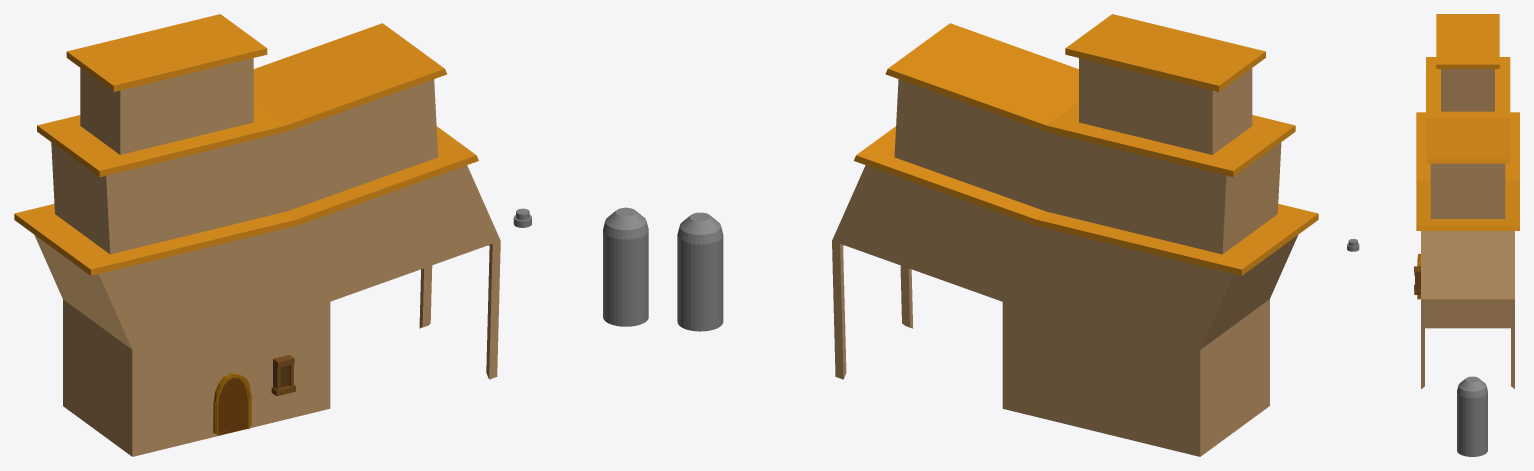
The model's file is House_2.fbx.
3 views of the same model, side by side, from view 1: azimuth 30°, elevation 25°; view 2: azimuth 150°, elevation 25°; view 3: azimuth 270°, elevation 25° (orthographic). The views are drawn at different scales.
Visible parts, largest first — view 1: Cube, Cylinder.002, Cube.466, Cube.019; view 2: Cube, Cylinder.002; view 3: Cube, Cylinder.002, Cube.019.
Boxes of the visible parts, x1,y1,x2,y2 form: Cube: (14,14,500,456); Cylinder.002: (603,207,648,326); Cube.466: (213,373,251,435); Cube.019: (271,355,295,396); Cube: (832,14,1318,456); Cylinder.002: (677,212,723,331); Cube: (1416,14,1519,388); Cylinder.002: (1457,376,1487,456); Cube.019: (1414,266,1420,294).
Size of the model in its own units: 3002 by 1838 by 1114.
